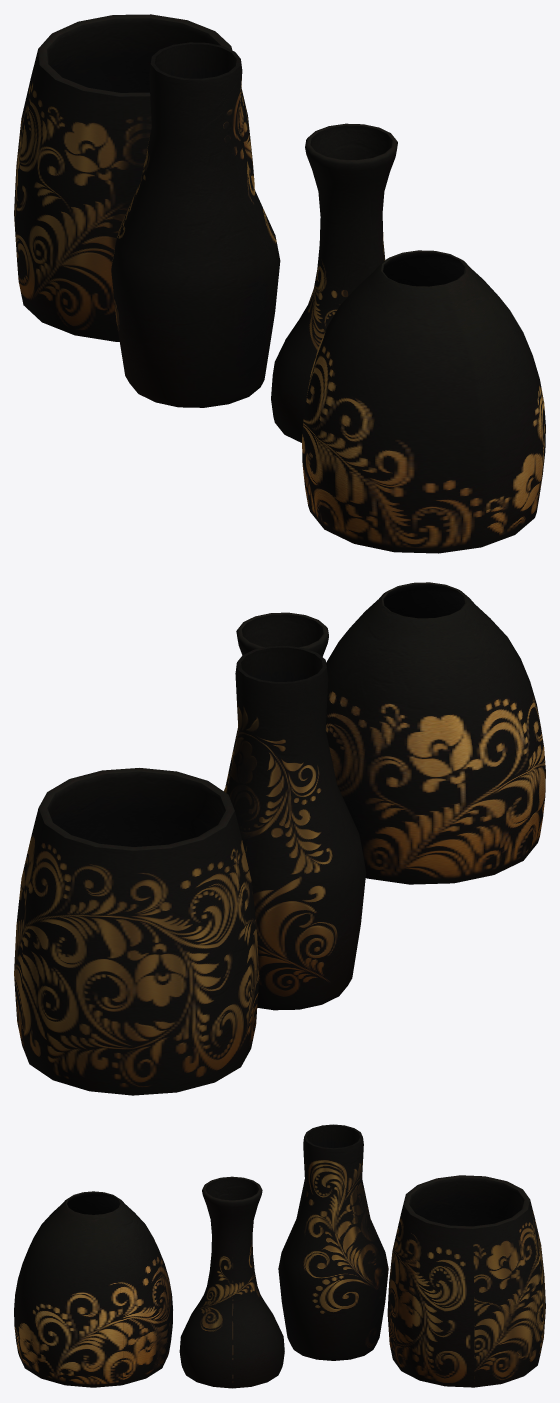
File: Museum_Displaytable_Props_03.FBX
3 views of the same model, one above another, from view 1: azimuth 30°, elevation 25°; view 2: azimuth 150°, elevation 25°; view 3: azimuth 270°, elevation 25° (orthographic). The views are drawn at different scales.
Visible parts, largest first — view 1: Museum_Displaytable_Props_03; view 2: Museum_Displaytable_Props_03; view 3: Museum_Displaytable_Props_03.
Part boxes in pixels (x1,y1,x2,y2): Museum_Displaytable_Props_03: [14, 14, 545, 553]; Museum_Displaytable_Props_03: [14, 582, 545, 1095]; Museum_Displaytable_Props_03: [14, 1124, 545, 1388].
Size of the model in its own units: 293 by 399 by 934.
1 material, 1 textured.
